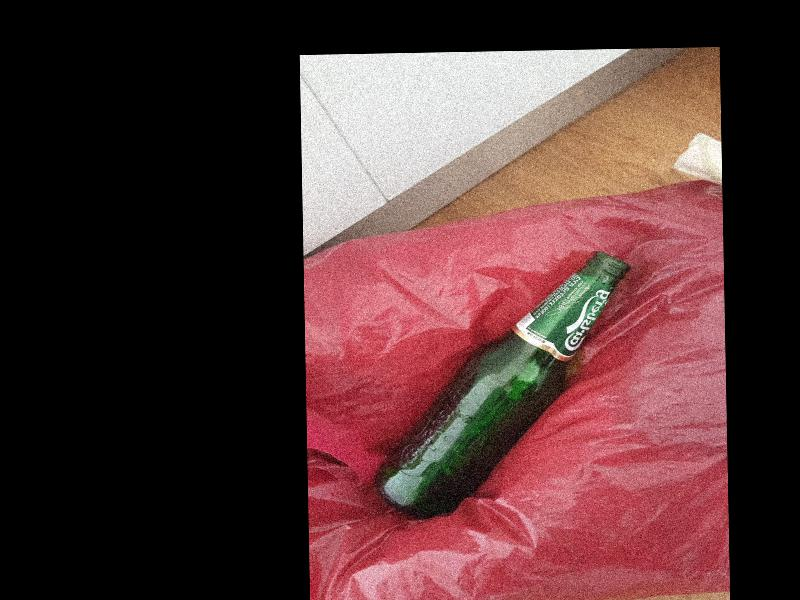Beer: (373, 250, 635, 518)
